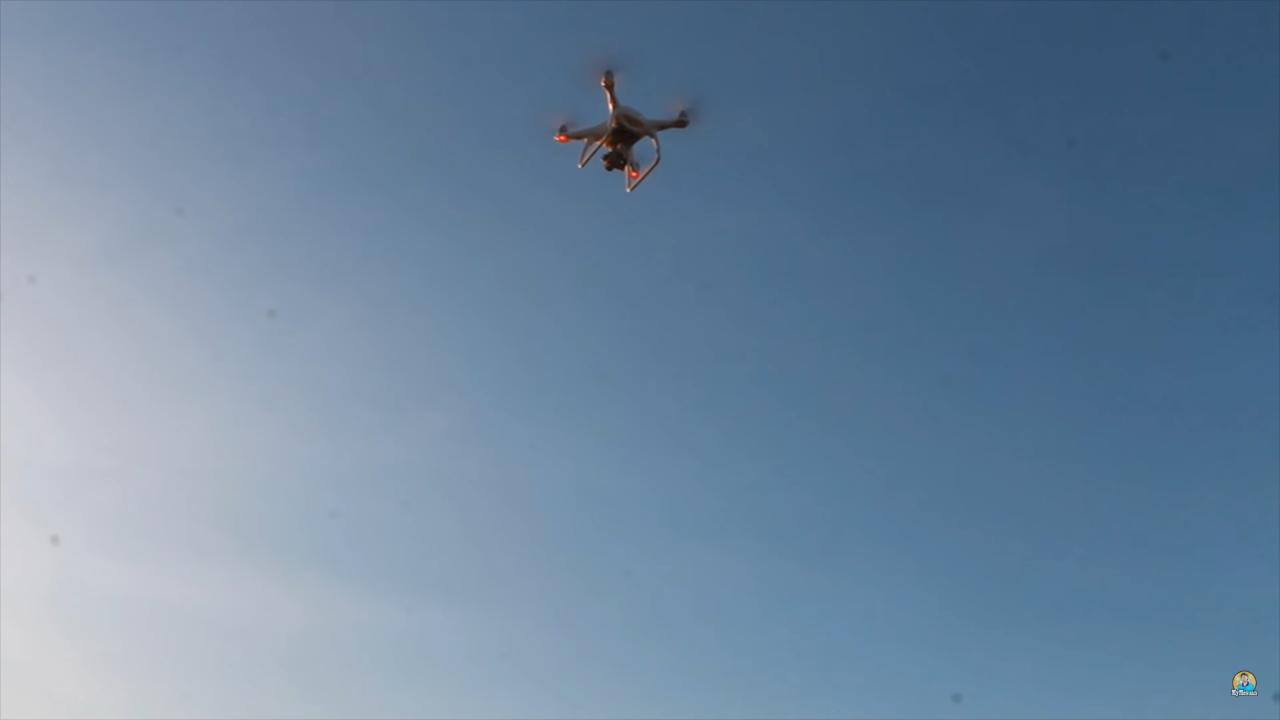Drone: (543, 47, 710, 208)
